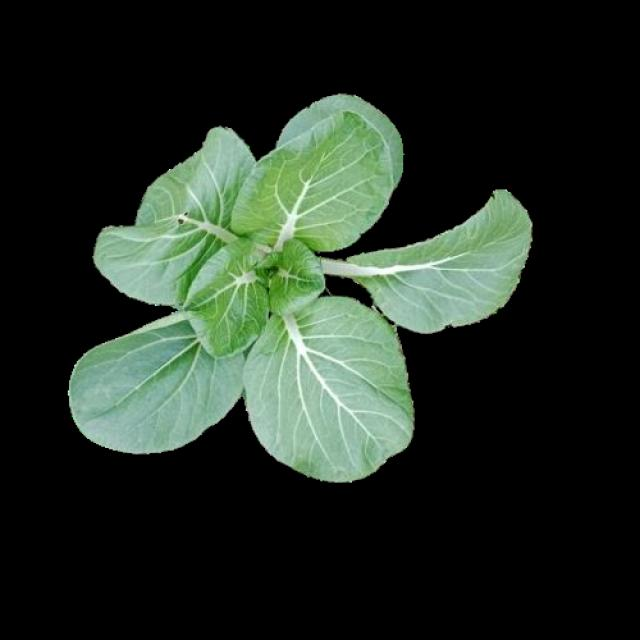mature: (68, 96, 531, 479)
unhealthy: (95, 124, 260, 305)
